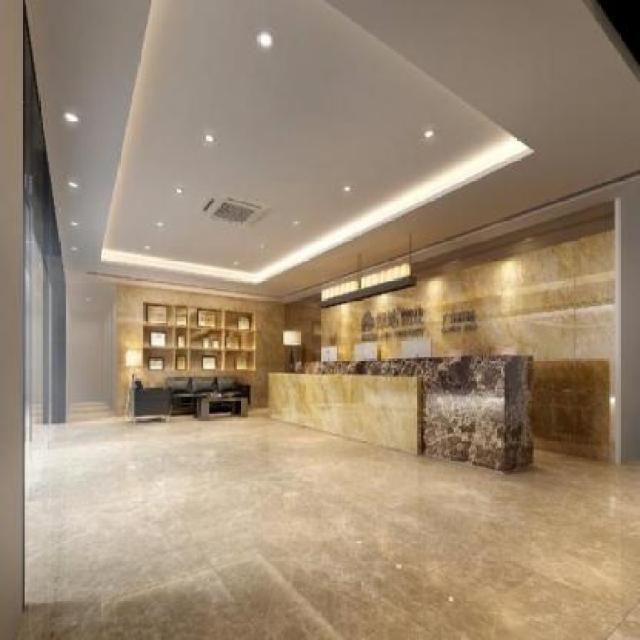frontdesk: (265, 346, 539, 487)
